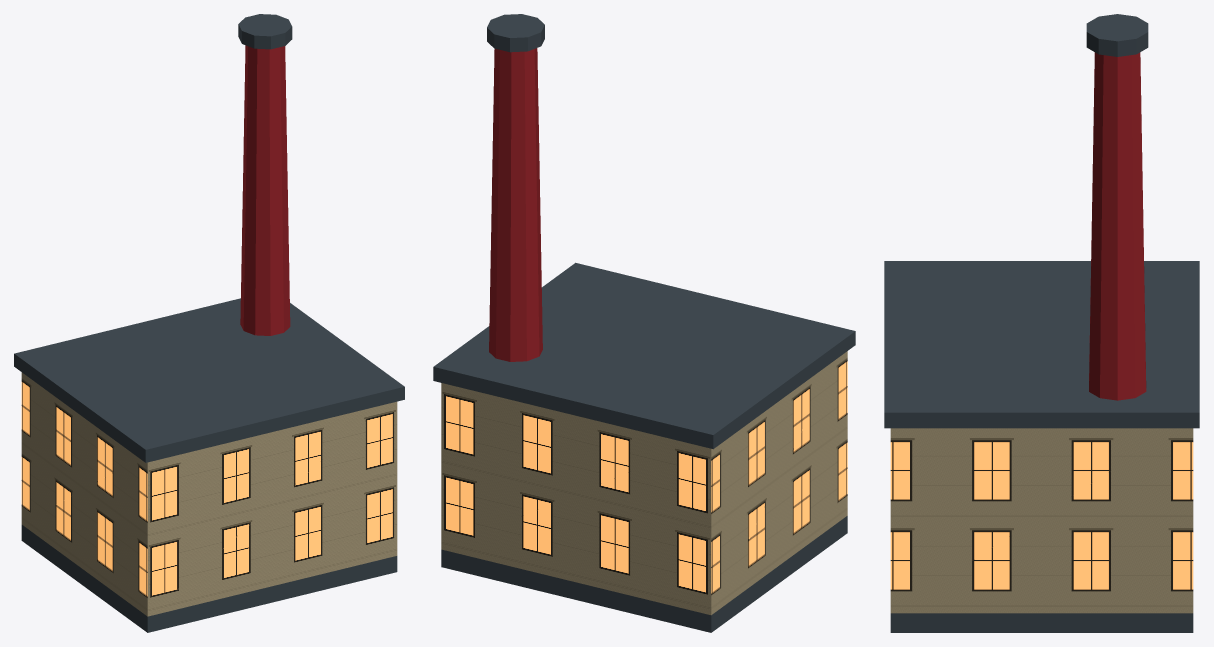
The model's file is works.glb.
The picture shows the model from 3 angles, left to right: view 1: azimuth 30°, elevation 25°; view 2: azimuth 150°, elevation 25°; view 3: azimuth 270°, elevation 25°; orthographic projection. The views are drawn at different scales.
Parts seen in each view (by area): view 1: works; view 2: works; view 3: works.
Part boxes in pixels (x1,y1,x2,y2): works: (14,14,404,632); works: (433,14,855,632); works: (884,14,1199,632).
Bounding box in the file's own units: 8.3 × 14.9 × 7.3.
3 materials, 1 textured.
